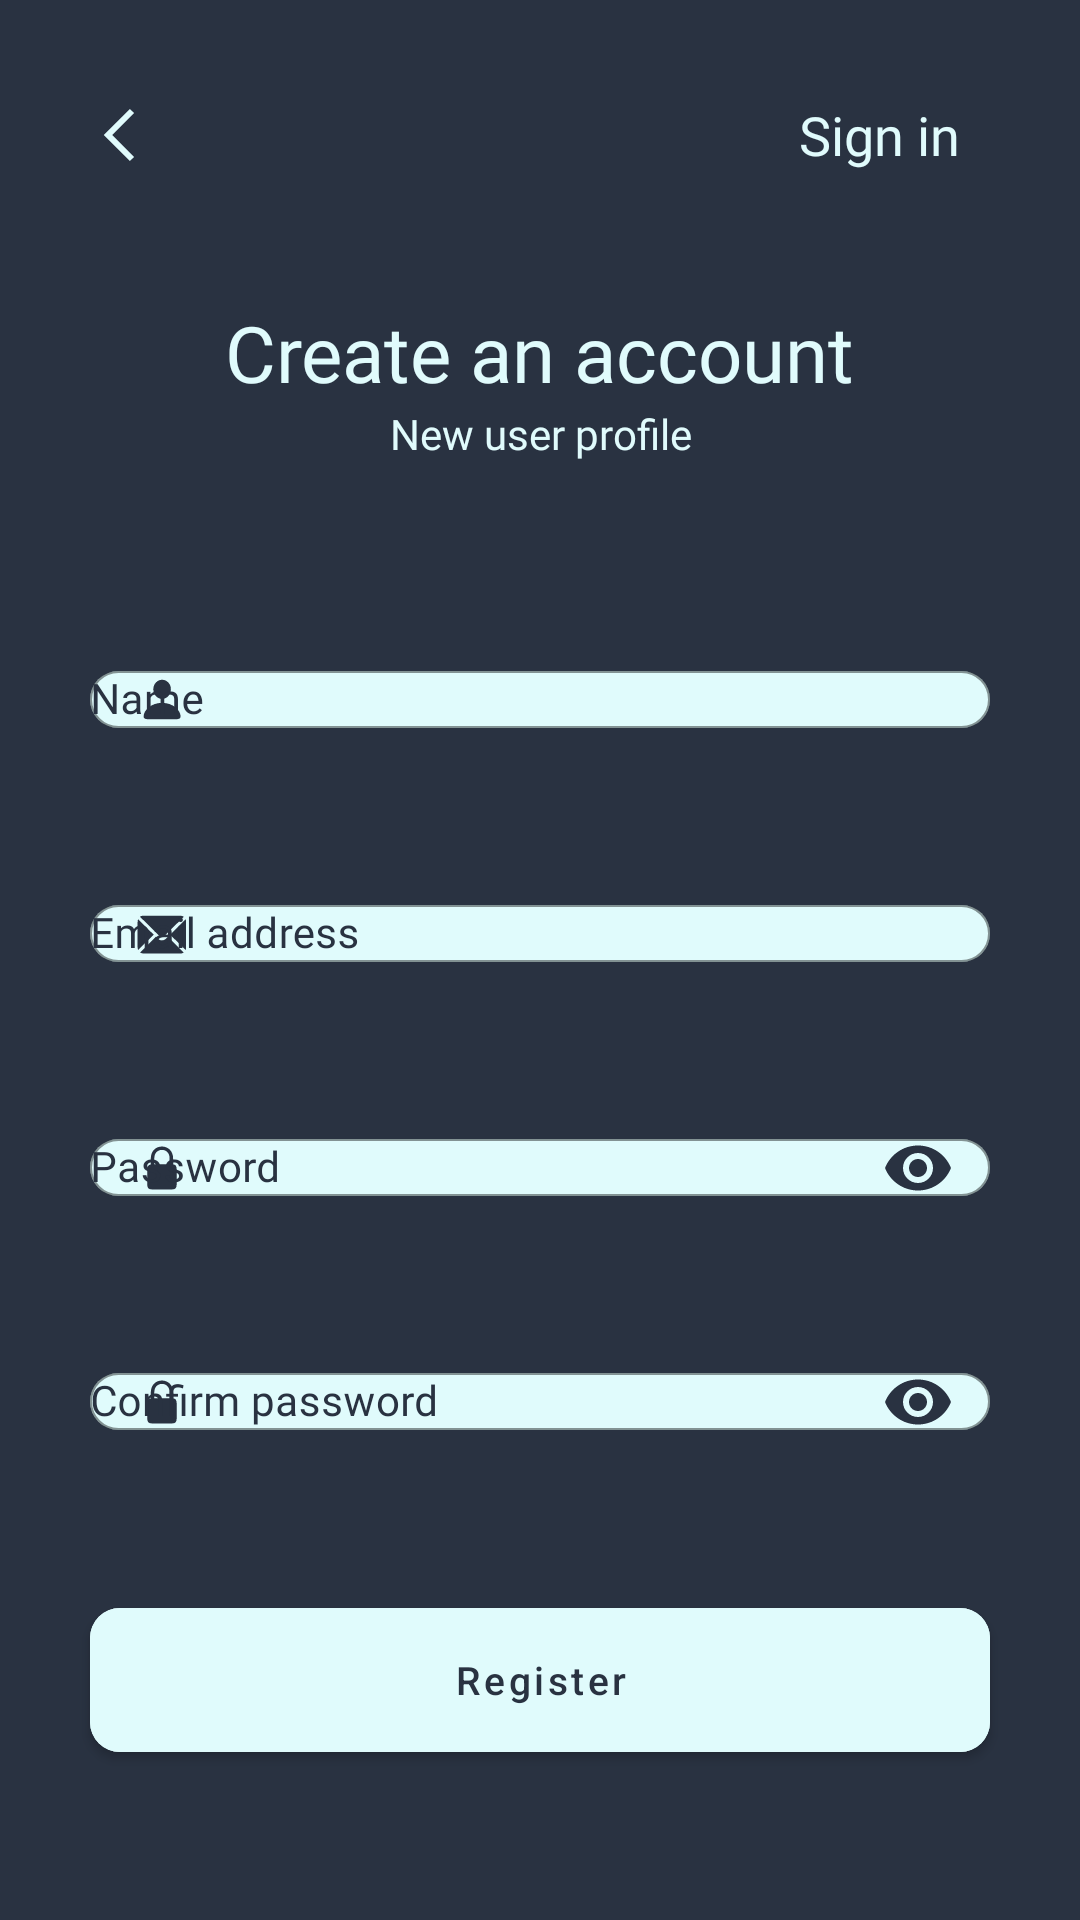

Icon click points for this 1080 x 1920 phone screenshot, format point (x, y):
back: point (119, 135)
